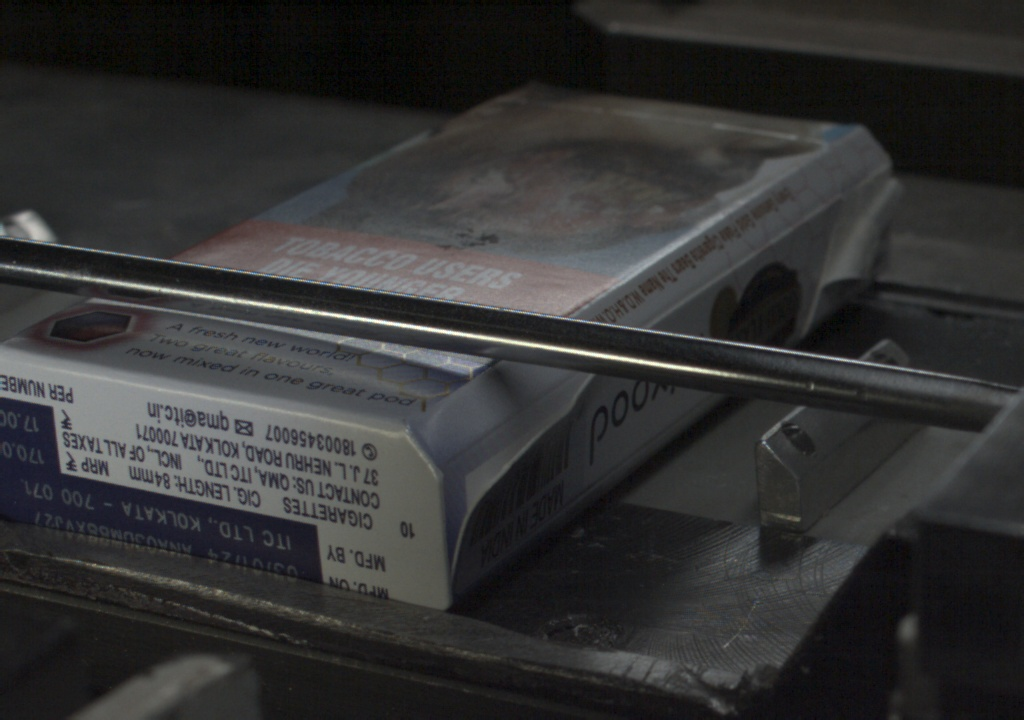g_bottom: (1, 345, 435, 614)
g_label: (2, 471, 323, 583)
g_lmiter: (650, 262, 741, 321), (745, 202, 822, 259)
ng_lmiter: (439, 432, 524, 539), (527, 372, 586, 451)
ng_miter: (824, 170, 898, 299)
price: (1, 404, 57, 469)
